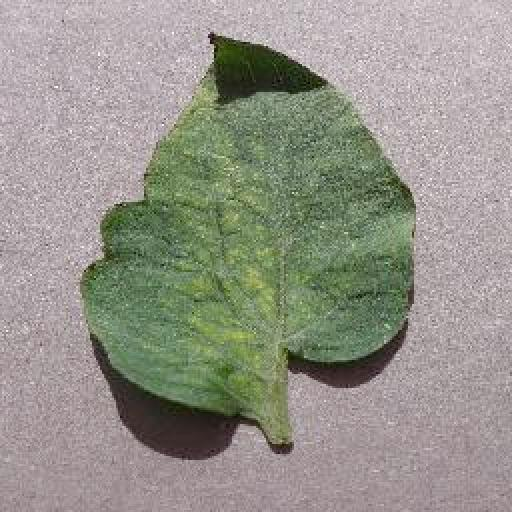disease_tomato: (80, 30, 418, 416)
